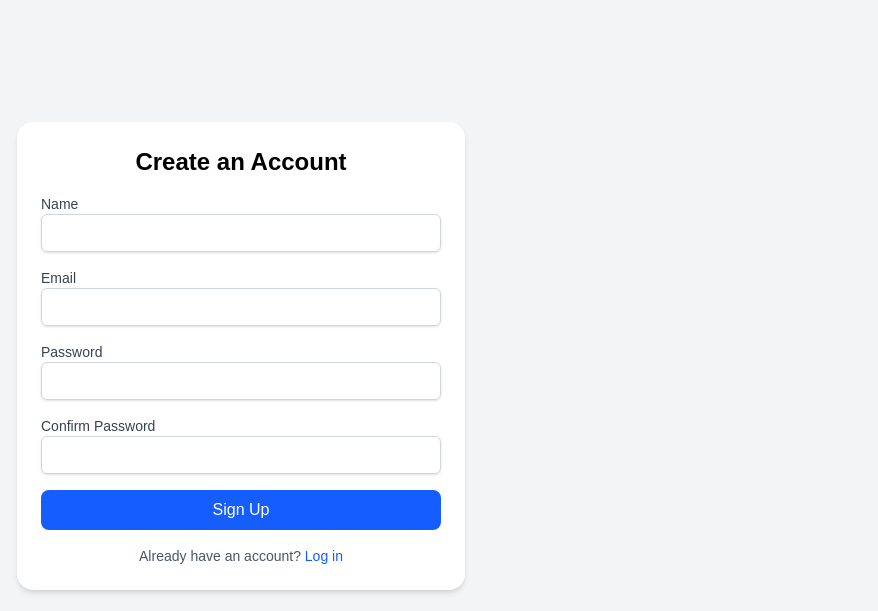
Scenario: Signup Page - Integration › should show error toast when API responds with an error
The width and height of the screenshot is (878, 611).
Type "Error User" into the field labelled "Name" at [241, 233], box [41,214,441,252]
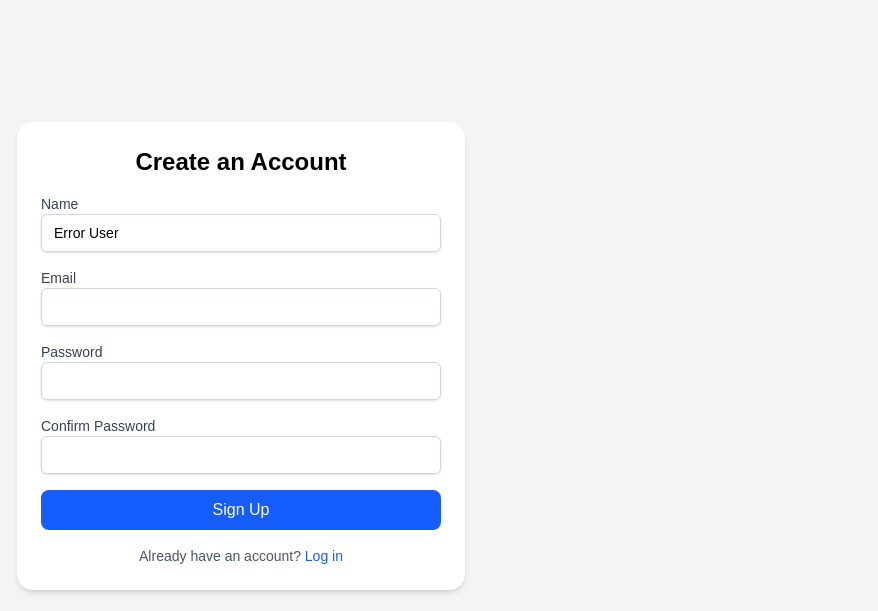
Type "error@example.com" into the field labelled "Email" at [241, 307], box [41,288,441,326]
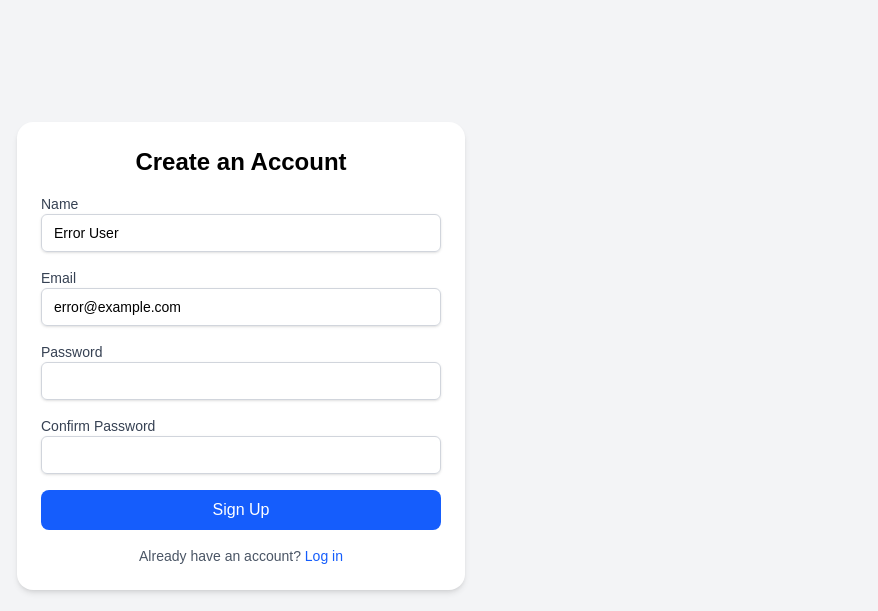
Type "password123" into the password field labelled "Password" at [241, 381], box [41,362,441,400]
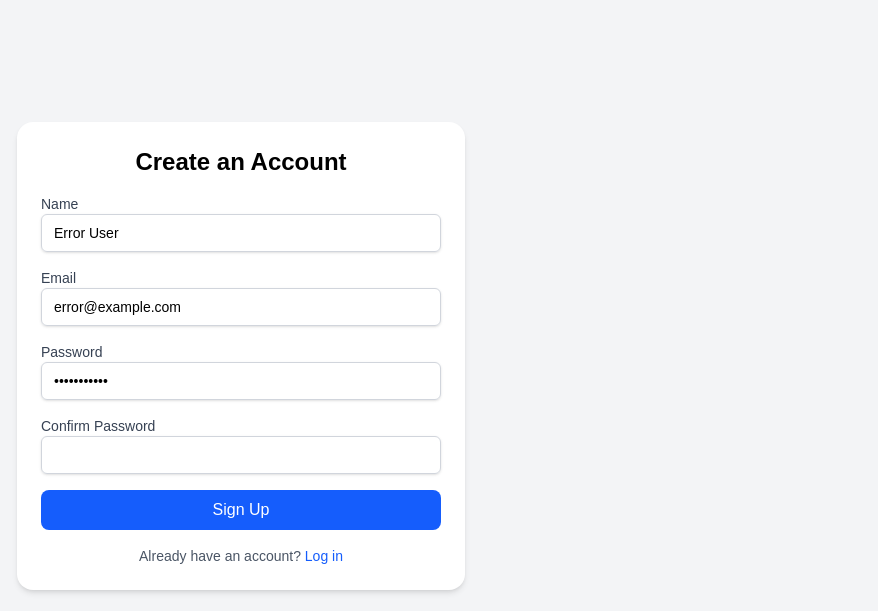
Type "password123" into the password field labelled "Confirm Password" at [241, 455], box [41,436,441,474]
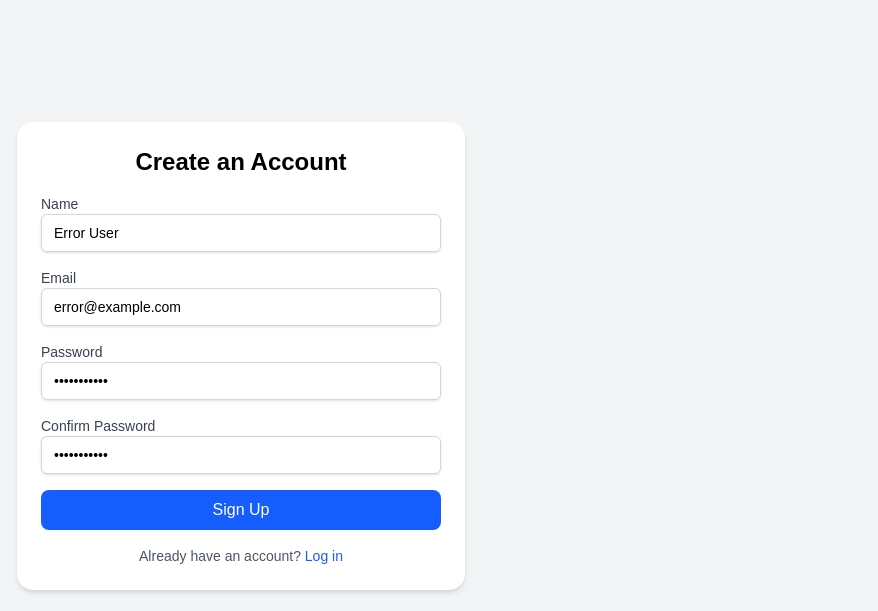
Click the button "Sign Up" at [241, 510], box [41,490,441,530]
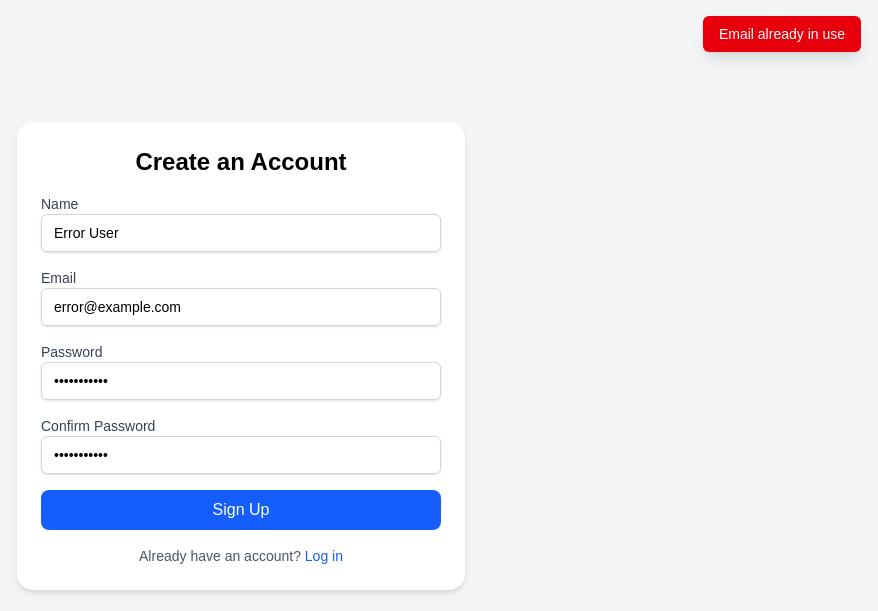
Check: the text "Email already in use" is shown, box [703,16,861,52]
